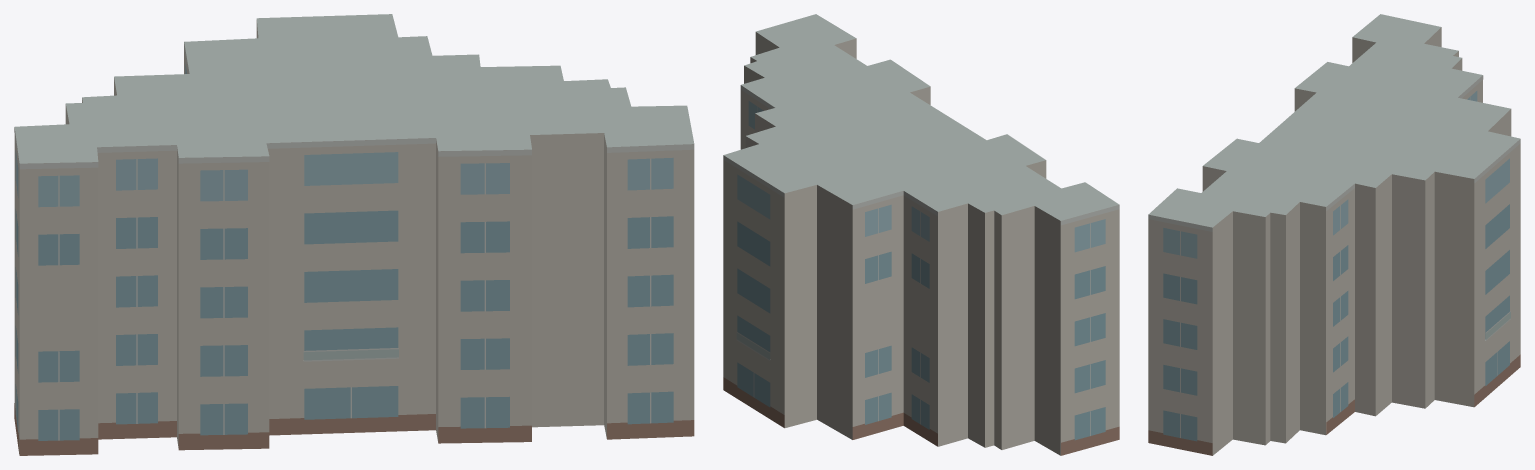
File: survey-upis-32604708.glb
The picture shows the model from 3 angles, left to right: view 1: azimuth 30°, elevation 25°; view 2: azimuth 150°, elevation 25°; view 3: azimuth 270°, elevation 25°; orthographic projection. The views are drawn at different scales.
Visible parts, largest first — view 1: survey-upis-32604708.tmp; view 2: survey-upis-32604708.tmp; view 3: survey-upis-32604708.tmp.
Part boxes in pixels (x1=…): survey-upis-32604708.tmp: x1=14, y1=14, x2=694, y2=455; survey-upis-32604708.tmp: x1=723, y1=14, x2=1119, y2=455; survey-upis-32604708.tmp: x1=1148, y1=14, x2=1520, y2=455.
Bounding box in the file's own units: 25.29 × 12.6 × 18.64.
